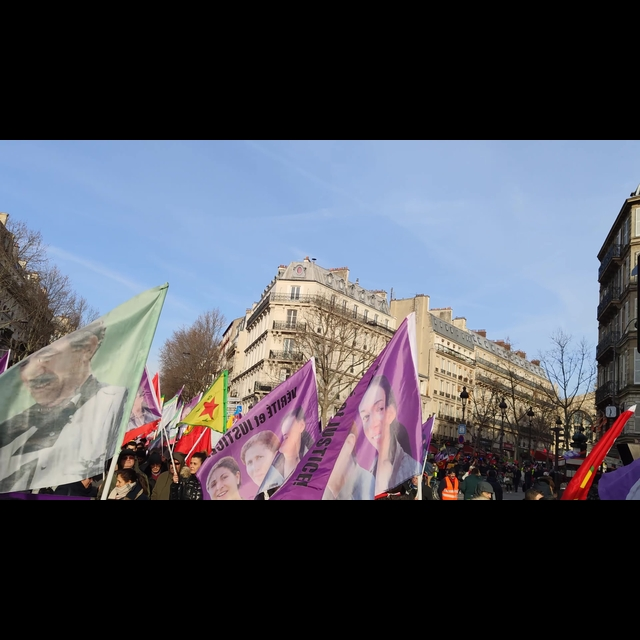YPG: (172, 368, 227, 435)
